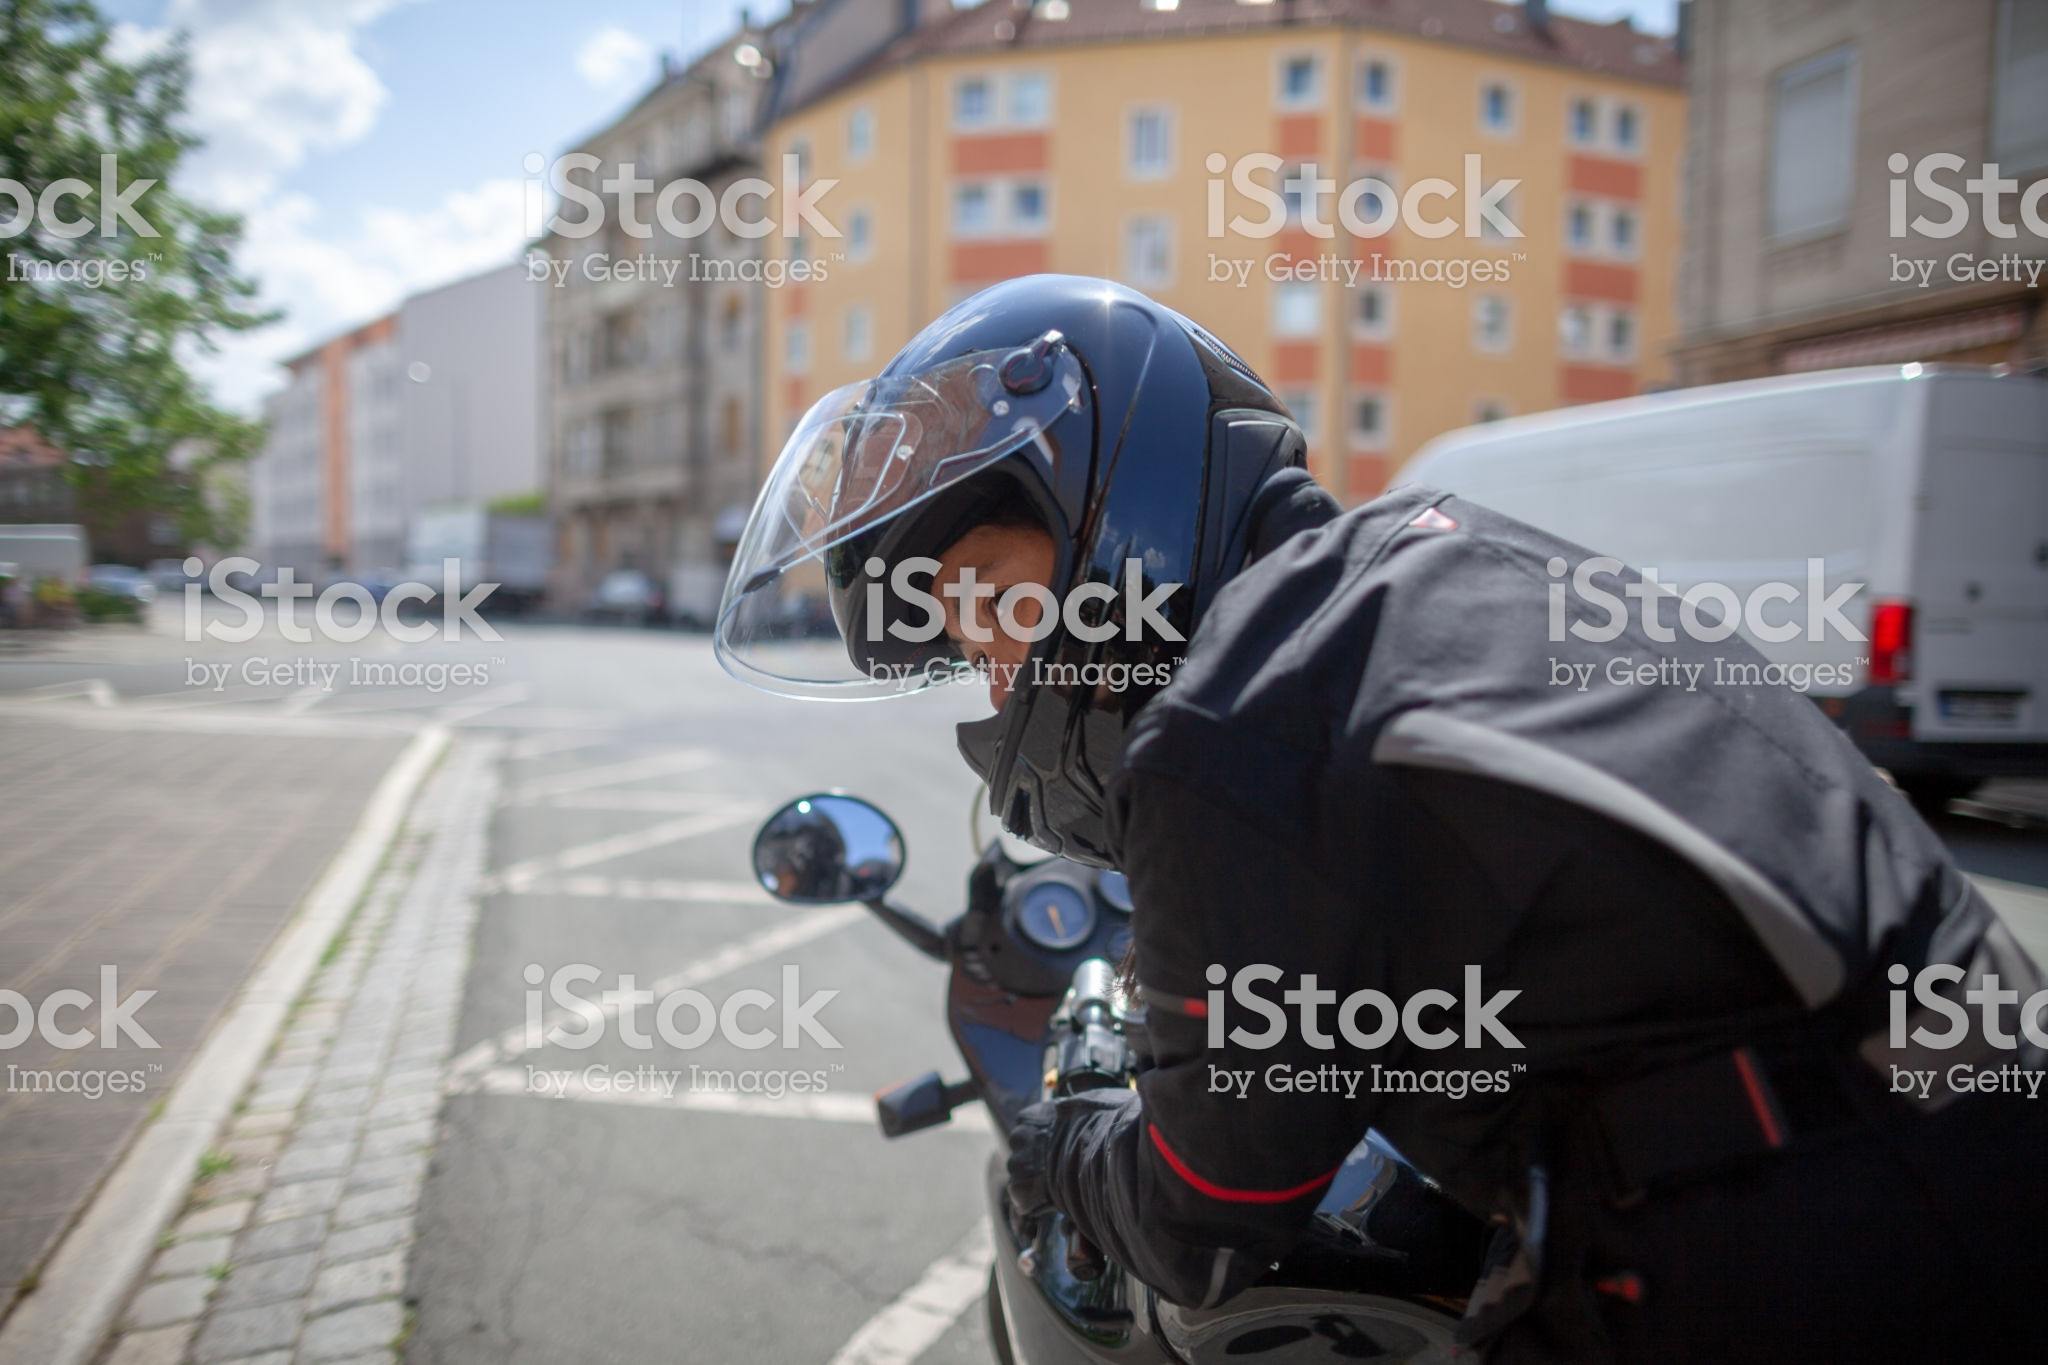helmet: (802, 267, 1294, 763)
